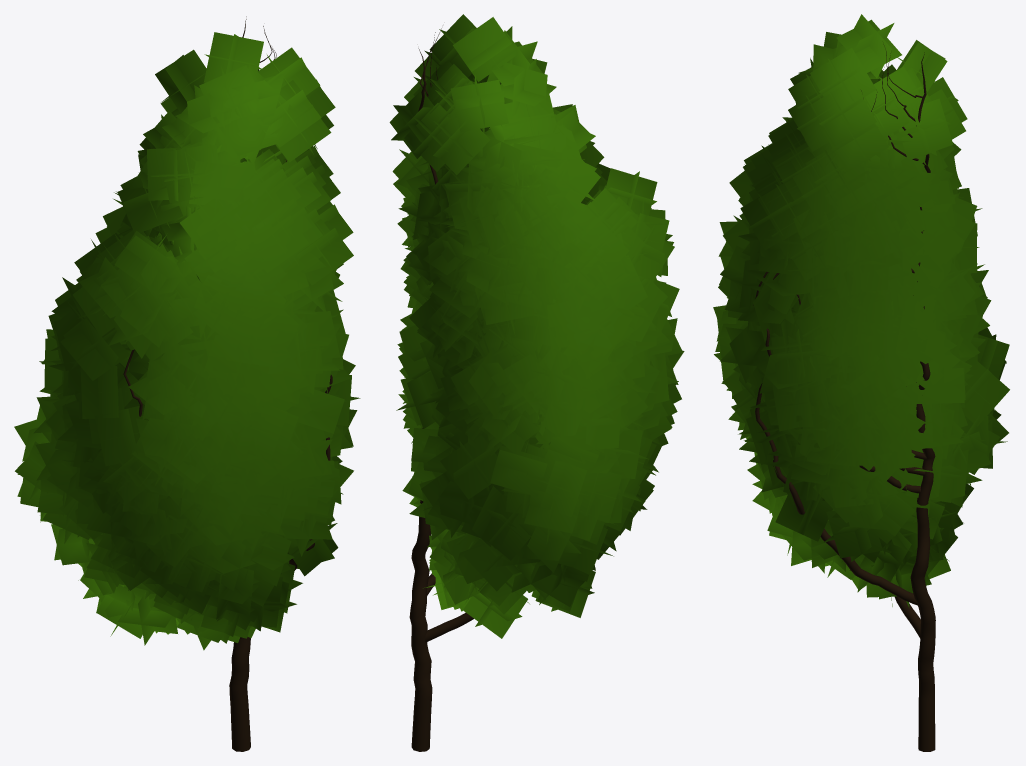
The model's file is tree2_lod1.fbx.
The picture shows the model from 3 angles, left to right: view 1: azimuth 30°, elevation 25°; view 2: azimuth 150°, elevation 25°; view 3: azimuth 270°, elevation 25°; orthographic projection. The views are drawn at different scales.
Parts seen in each view (by area): view 1: transform1; view 2: transform1; view 3: transform1.
Part boxes in pixels (x1=…): transform1: x1=14, y1=16, x2=360, y2=751; transform1: x1=389, y1=14, x2=684, y2=751; transform1: x1=713, y1=14, x2=1009, y2=751.
Size of the model in its own units: 365 by 958 by 363.
